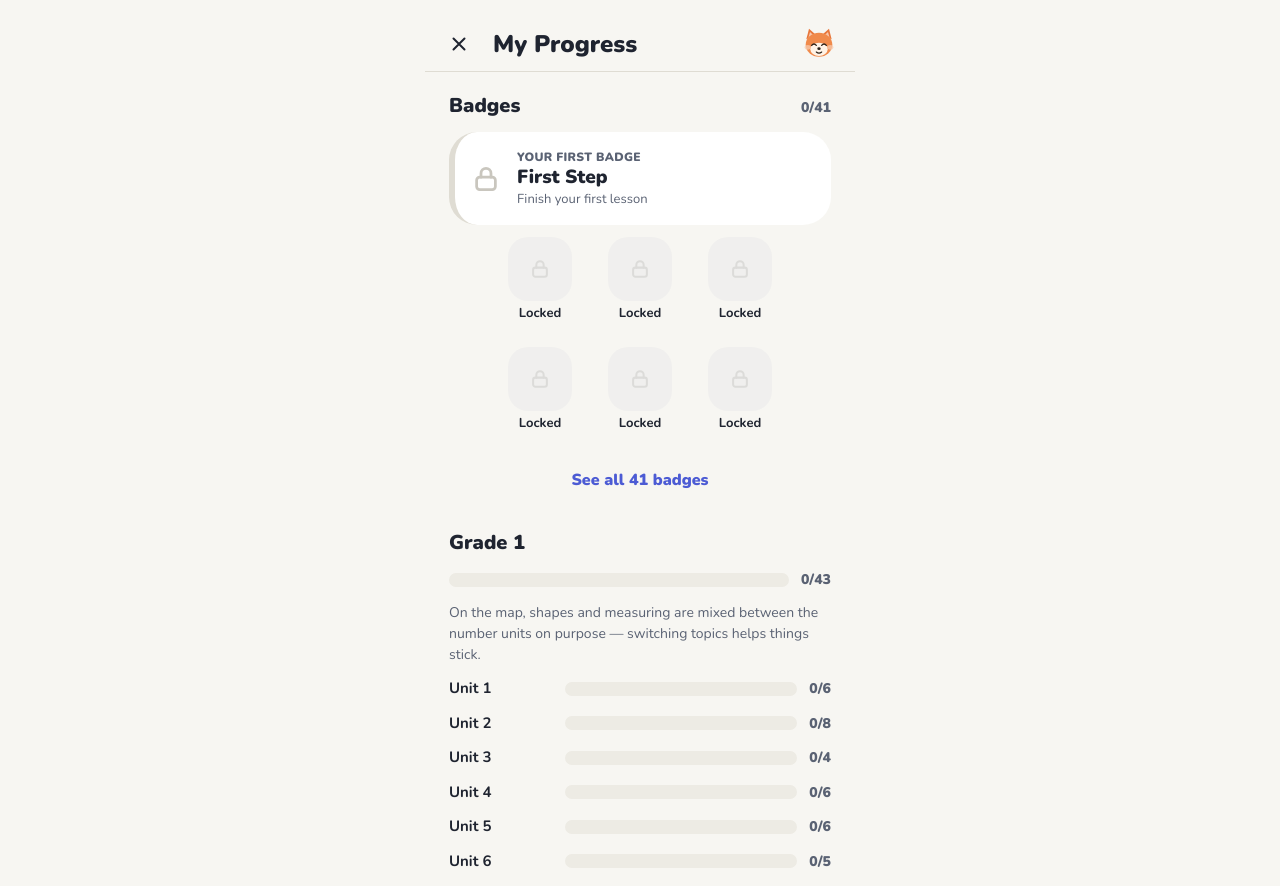
it: badge di My Progress › badge bisa ditekan dan menjelaskan cara mendapatkannya
Click the button with aria-label "Locked badge": (540, 286) [496,237,584,335]
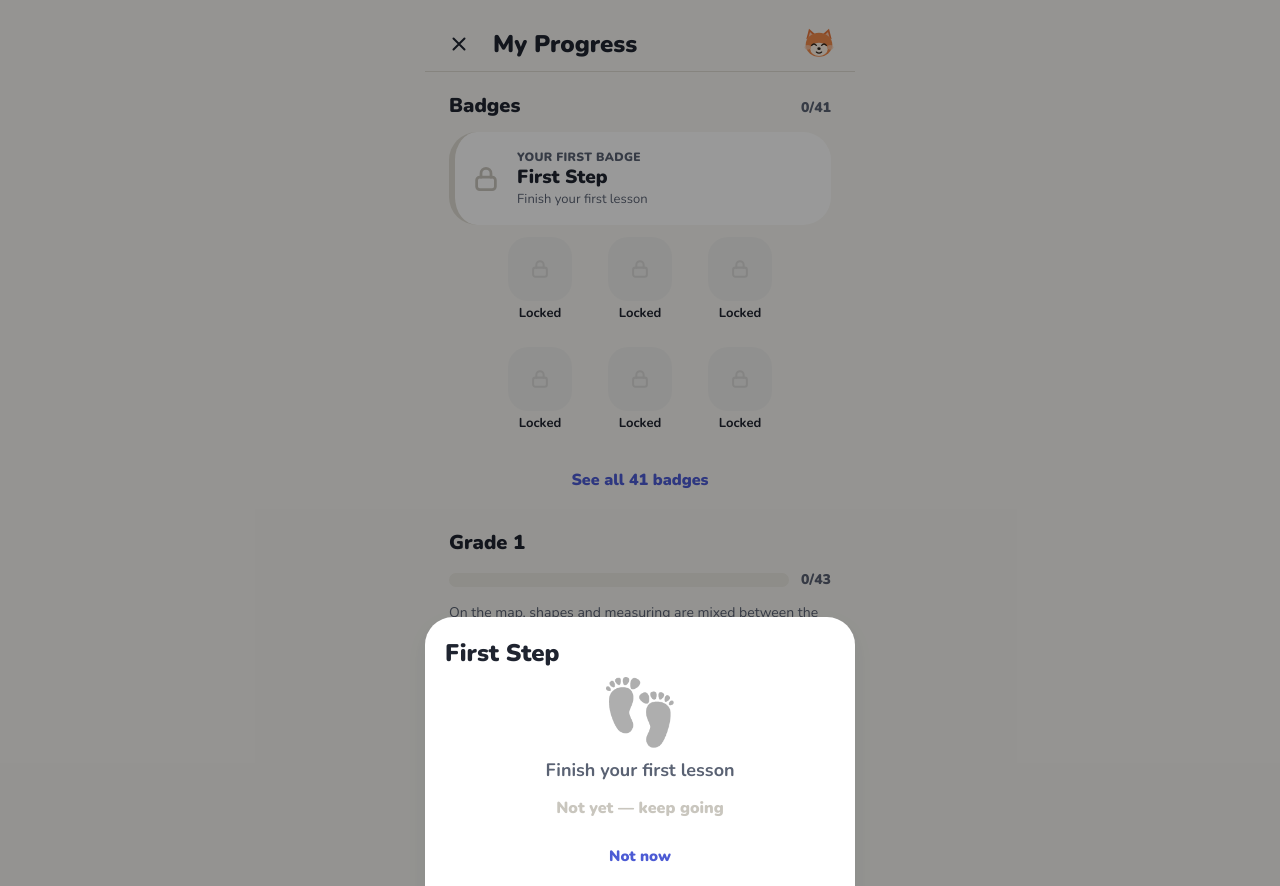
Check: the text "Not yet — keep going" is shown, box [556,796,724,820]
